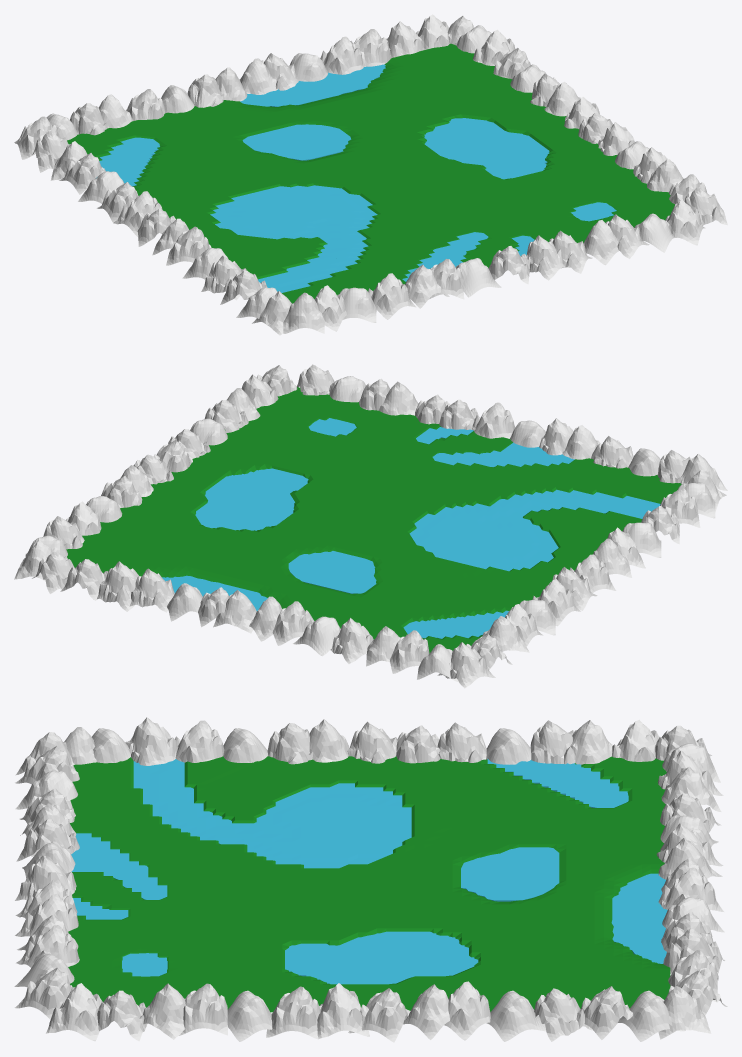
File: mainTerrain.fbx
The picture shows the model from 3 angles, top to bottom: view 1: azimuth 30°, elevation 25°; view 2: azimuth 150°, elevation 25°; view 3: azimuth 270°, elevation 25°; orthographic projection. The views are drawn at different scales.
Parts seen in each view (by area): view 1: Plane, Water.002, Water.006, Water.009, Water.005, Water.008, Plane.012, Water, Plane.006, Plane.042, Plane.018, Plane.019 (+55 smaller); view 2: Plane, Water.002, Water.006, Water.009, Water, Water.008, Plane.042, Plane.045, Plane.053, Plane.038, Water.004, Plane.036 (+55 smaller); view 3: Plane, Water.002, Water.006, Water.009, Water.005, Water.008, Water, Plane.024, Plane.025, Plane.030, Plane.031, Plane.021 (+56 smaller).
Boxes of the visible parts, left/top/right/bottom form: Plane: left=67, top=43, right=674, bottom=303; Water.002: left=210, top=185, right=377, bottom=240; Water.006: left=424, top=118, right=549, bottom=179; Water.009: left=242, top=124, right=351, bottom=160; Water.005: left=240, top=64, right=385, bottom=106; Water.008: left=95, top=137, right=159, bottom=186; Plane.012: left=368, top=273, right=416, bottom=319; Water: left=402, top=232, right=488, bottom=281; Plane.006: left=283, top=292, right=324, bottom=333; Plane.042: left=320, top=36, right=363, bottom=74; Plane.018: left=526, top=235, right=571, bottom=280; Plane.019: left=665, top=200, right=705, bottom=245; Plane: left=66, top=387, right=681, bottom=653; Water.002: left=409, top=503, right=558, bottom=571; Water.006: left=195, top=468, right=308, bottom=530; Water.009: left=288, top=551, right=376, bottom=593; Water: left=432, top=442, right=574, bottom=467; Water.008: left=403, top=610, right=508, bottom=638; Plane.042: left=129, top=568, right=174, bottom=612; Plane.045: left=97, top=561, right=138, bottom=611; Plane.053: left=437, top=642, right=495, bottom=688; Plane.038: left=330, top=618, right=373, bottom=663; Water.004: left=553, top=489, right=630, bottom=513; Plane.036: left=390, top=630, right=429, bottom=673; Plane: left=68, top=756, right=670, bottom=1012; Water.002: left=244, top=783, right=411, bottom=868; Water.006: left=285, top=931, right=478, bottom=984; Water.009: left=461, top=847, right=559, bottom=901; Water.005: left=611, top=873, right=667, bottom=963; Water.008: left=487, top=758, right=628, bottom=807; Water: left=71, top=833, right=167, bottom=899; Plane.024: left=46, top=983, right=102, bottom=1041; Plane.025: left=266, top=986, right=320, bottom=1039; Plane.030: left=317, top=983, right=369, bottom=1039; Plane.031: left=534, top=988, right=592, bottom=1041; Plane.021: left=179, top=983, right=227, bottom=1035.
Size of the model in its own units: 23066 by 1674 by 23568.
